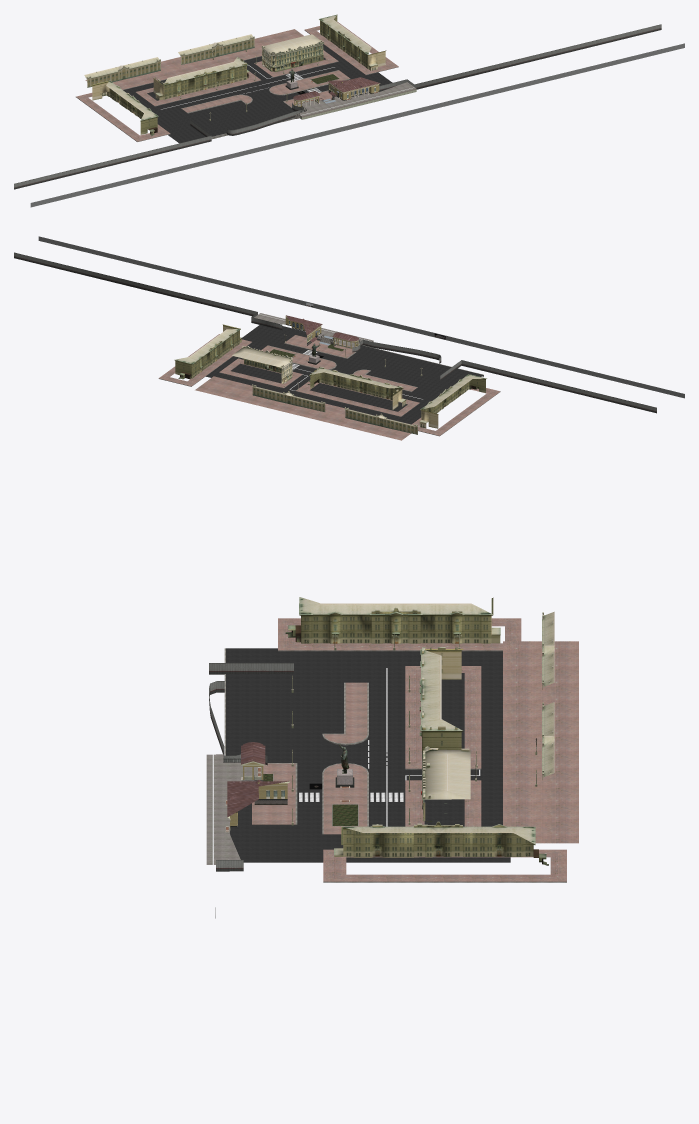
File: platform_and_square.fbx
3 renders of one model, top to bottom at view 1: azimuth 30°, elevation 25°; view 2: azimuth 150°, elevation 25°; view 3: azimuth 270°, elevation 25°, orthographic. The views are drawn at different scales.
Parts seen in each view (by area): view 1: platform.317; view 2: platform.317; view 3: platform.317.
Part boxes in pixels (x1,y1,x2,y2): platform.317: (14, 14, 684, 207); platform.317: (14, 236, 684, 440); platform.317: (206, 597, 578, 918).
Size of the model in its own units: 39438 by 1284 by 12112.
32 materials, 32 textured.
